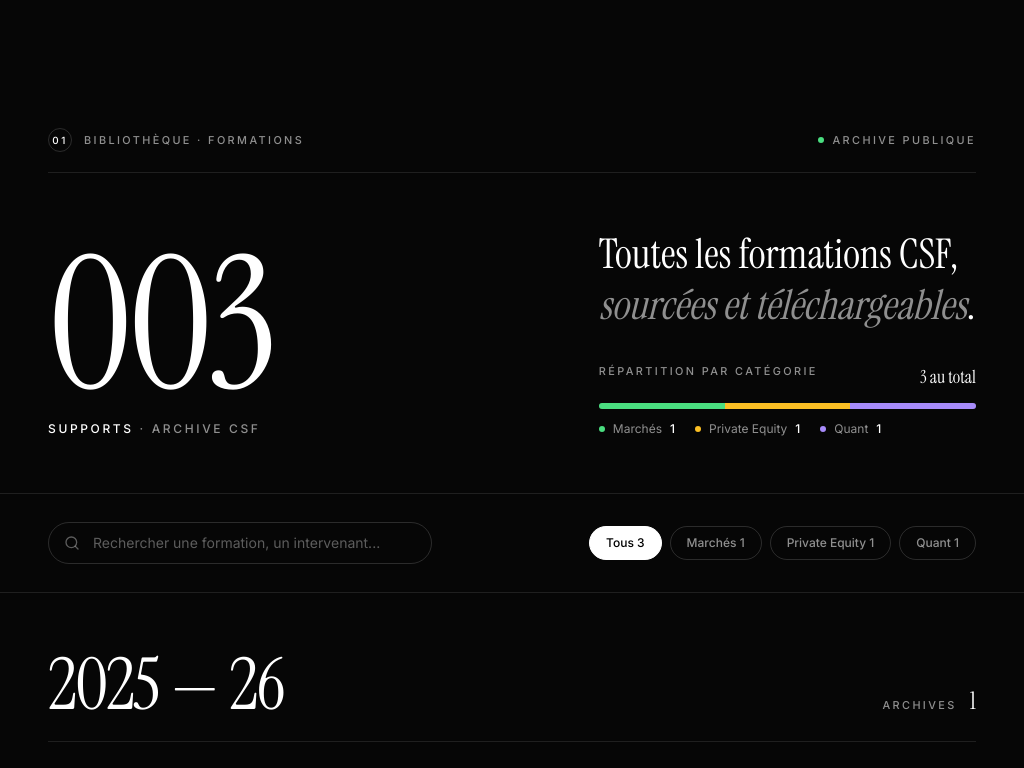
Scenario: FormationsArchive › filters by category and search text with an empty state
Click the button "Quant 1".
click(938, 543)  # box [899, 526, 976, 560]
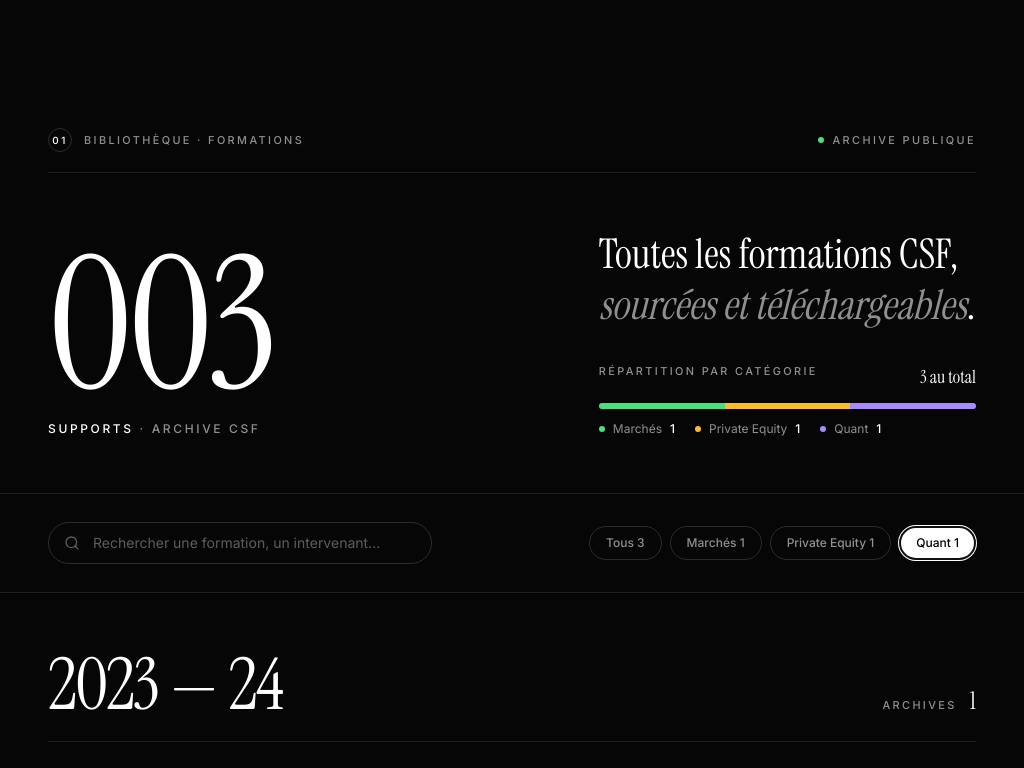
Type "introuvable" into the search field labelled "Rechercher une formation, un intervenant...".
click(240, 543); type("introuvable")  # box [48, 522, 432, 564]
(page scrolled)
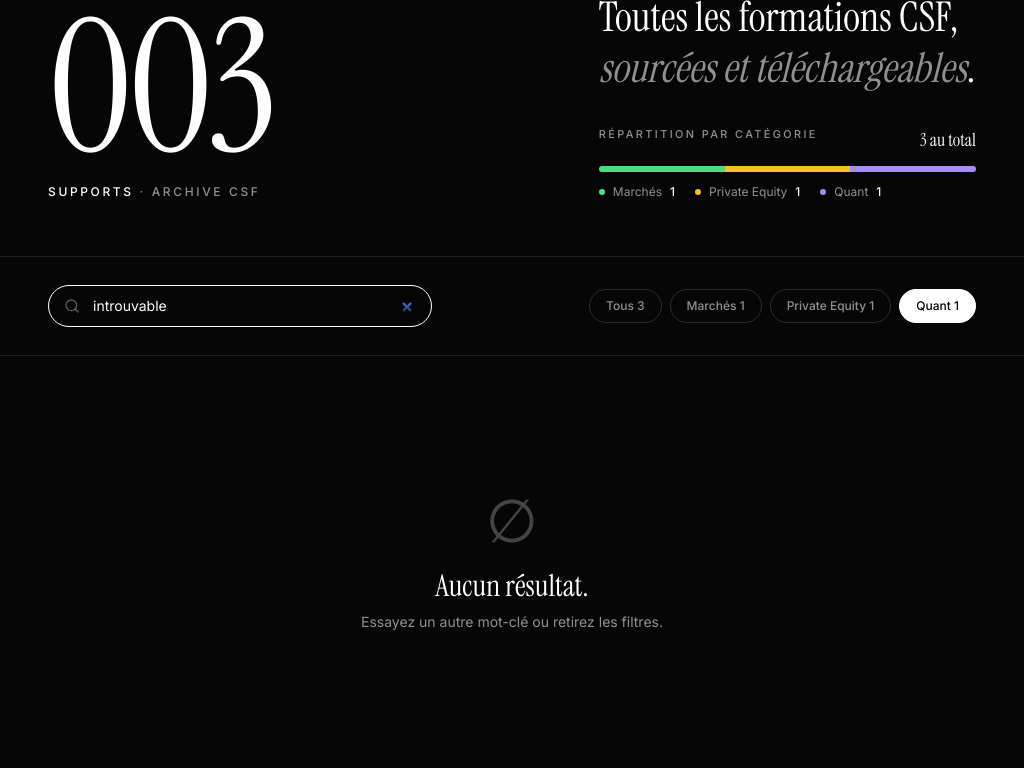
Result: the heading "Aucun résultat." is shown at [435, 566, 589, 605]
Result: the text "Essayez un autre mot-clé ou retirez les filtres." is shown at [361, 613, 663, 630]
